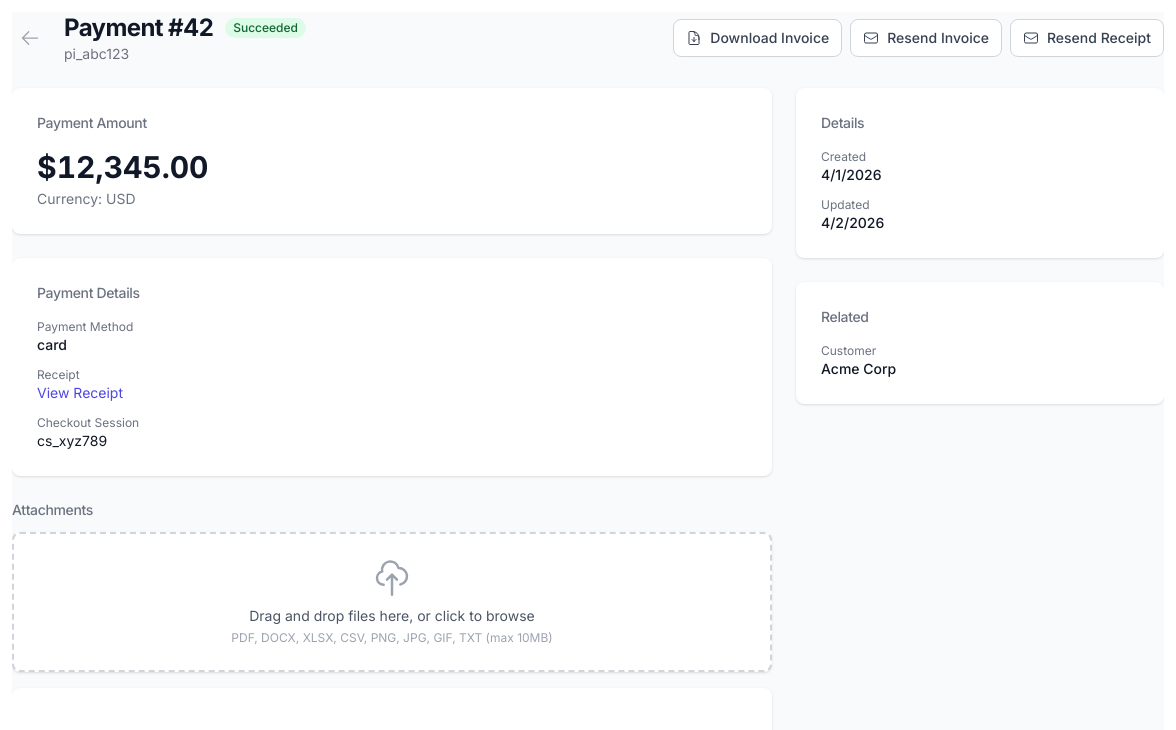
Test: PaymentDetailPage › resend receipt shows success message when apiClient.post resolves
The width and height of the screenshot is (1176, 730).
Click the button with aria-label "resend receipt email": (1087, 38) top-left (1010, 19), bottom-right (1164, 57)
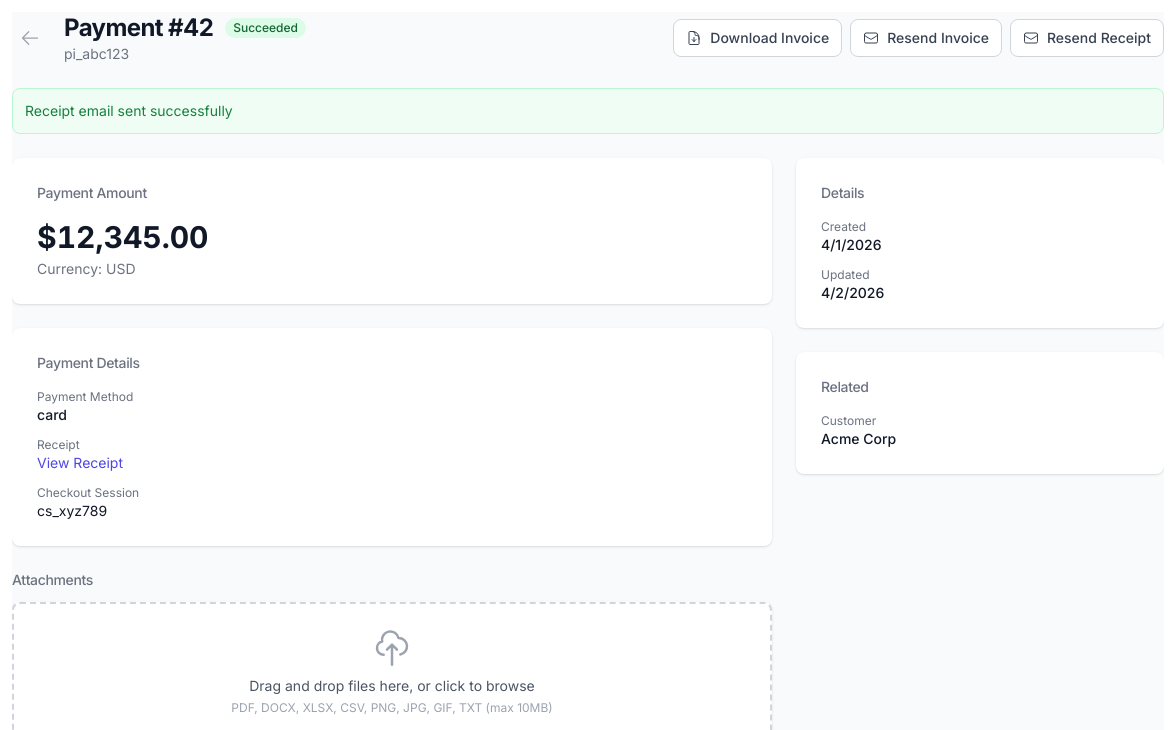
Check: the message reads "Receipt email sent successfully", box top-left (25, 102), bottom-right (233, 119)
